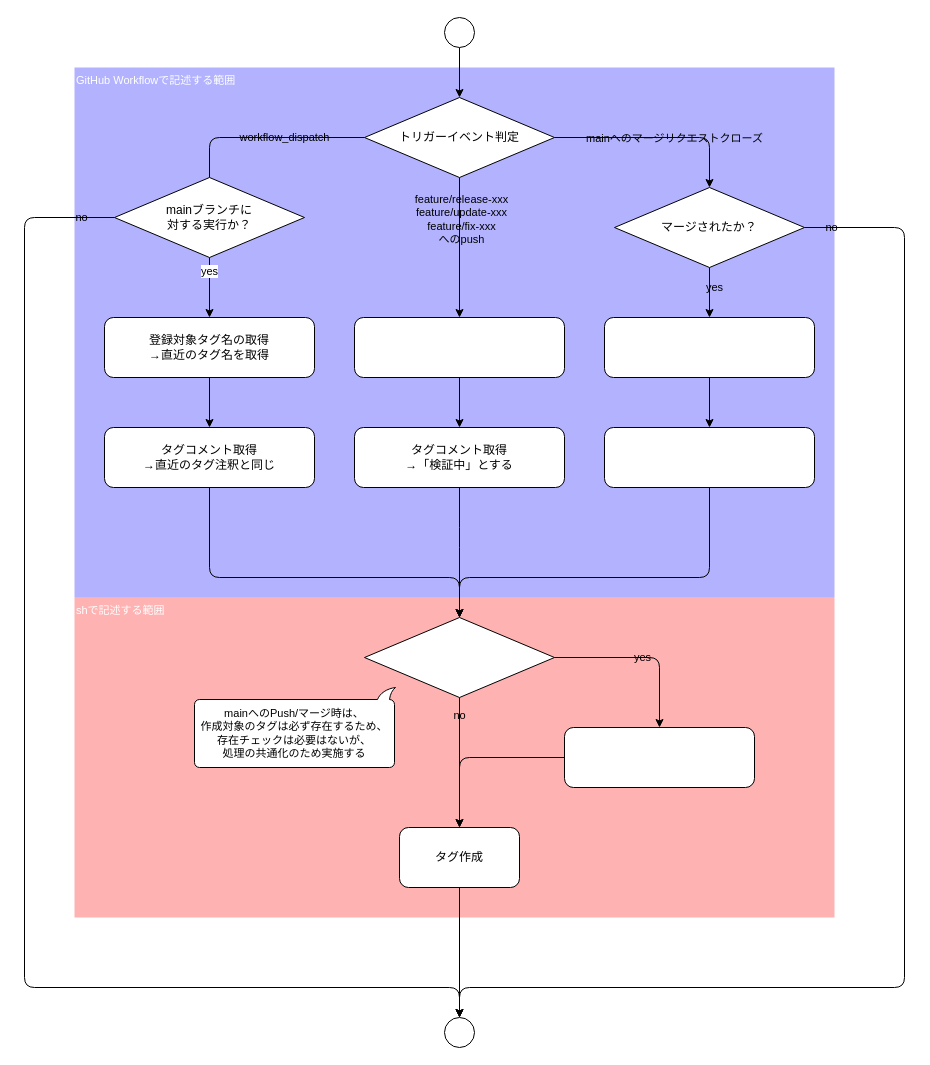
This 930x1065 diagram has some shape labels left out. Here are the shapes that lost their labels. From the top down, the centre of each, then its label:
At pixel 459 347: "登録対象タグ名の取得 →自身のブランチから取得".
At pixel 709 347: "登録対象タグ名の取得 →マージ元ブランチから取得".
At pixel 709 457: "タグコメント取得 →「リリース：タグ名」とする".
At pixel 459 657: "タグが作成済みか？".
At pixel 659 757: "既存タグの削除".
